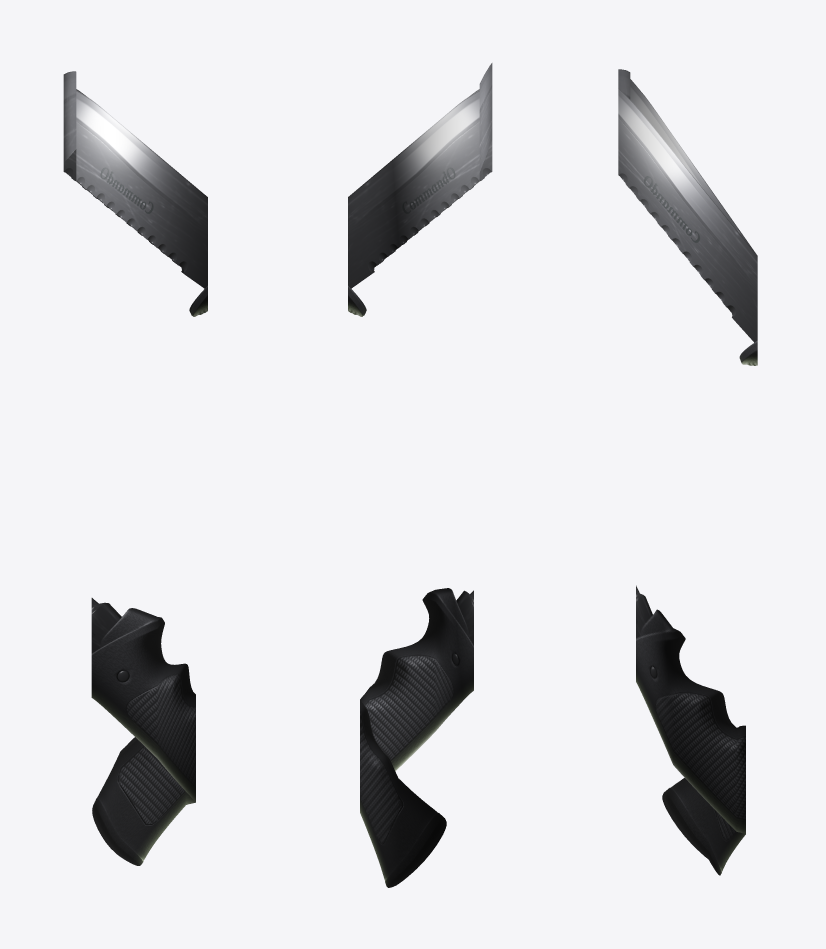
The model's file is Knife.fbx.
3 renders of one model, left to right at view 1: azimuth 30°, elevation 25°; view 2: azimuth 150°, elevation 25°; view 3: azimuth 330°, elevation 25°, orthographic. The views are drawn at different scales.
Parts seen in each view (by area): view 1: Knife; view 2: Knife; view 3: Knife.
Boxes of the visible parts, box(x1,y1,x2,y2) form: Knife: box(63, 71, 207, 865); Knife: box(348, 63, 492, 887); Knife: box(618, 69, 757, 875).
Size of the model in its own units: 9.98 by 42.65 by 3.79.
1 material, 1 textured.
